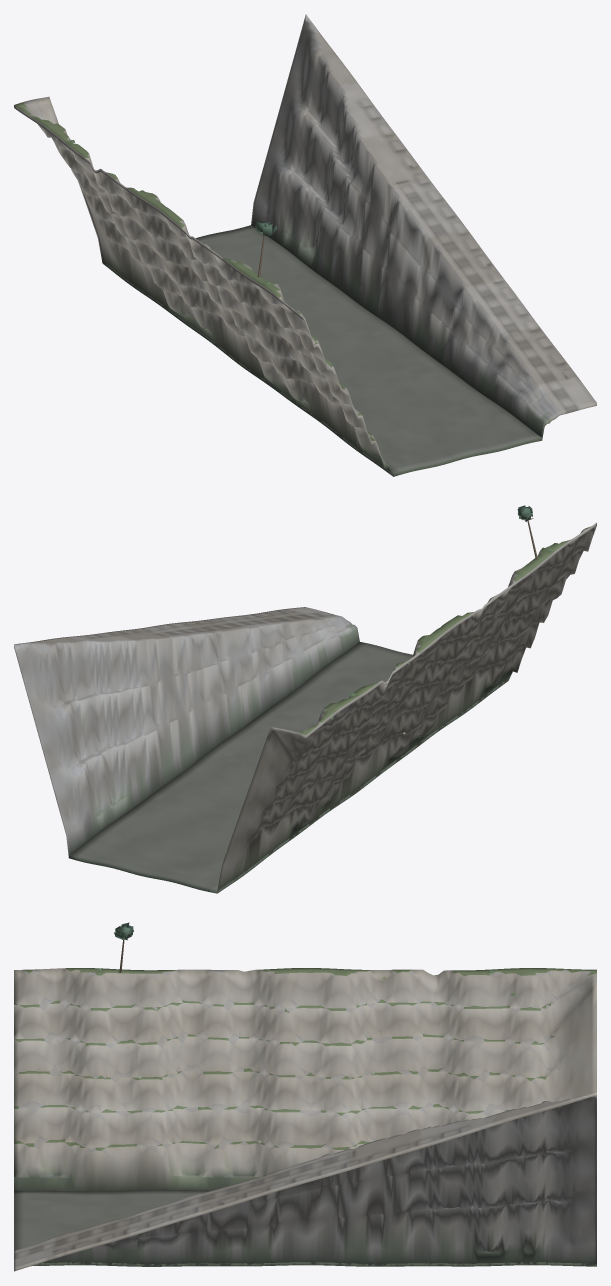
The model's file is river.glb.
3 renders of one model, top to bottom at view 1: azimuth 30°, elevation 25°; view 2: azimuth 150°, elevation 25°; view 3: azimuth 270°, elevation 25°, orthographic.
Visible parts, largest first — view 1: river_east_bank, river_west_bank, river_banks; view 2: river_east_bank, river_west_bank, river_banks; view 3: river_west_bank, river_east_bank, river_banks.
Boxes of the visible parts, x1=… form: river_east_bank: x1=251, y1=14, x2=596, y2=440; river_west_bank: x1=14, y1=96, x2=393, y2=476; river_banks: x1=102, y1=225, x2=541, y2=476; river_east_bank: x1=14, y1=607, x2=359, y2=857; river_west_bank: x1=217, y1=522, x2=596, y2=892; river_banks: x1=69, y1=642, x2=508, y2=893; river_west_bank: x1=14, y1=968, x2=596, y2=1191; river_east_bank: x1=14, y1=1092, x2=596, y2=1271; river_banks: x1=14, y1=1189, x2=596, y2=1266.
Size of the model in its own units: 82.5 by 62.93 by 142.
